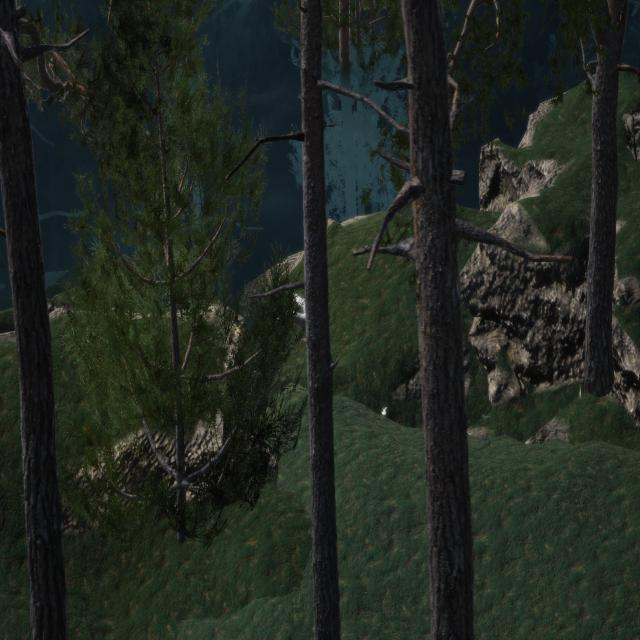Human: (267, 258, 326, 349)
